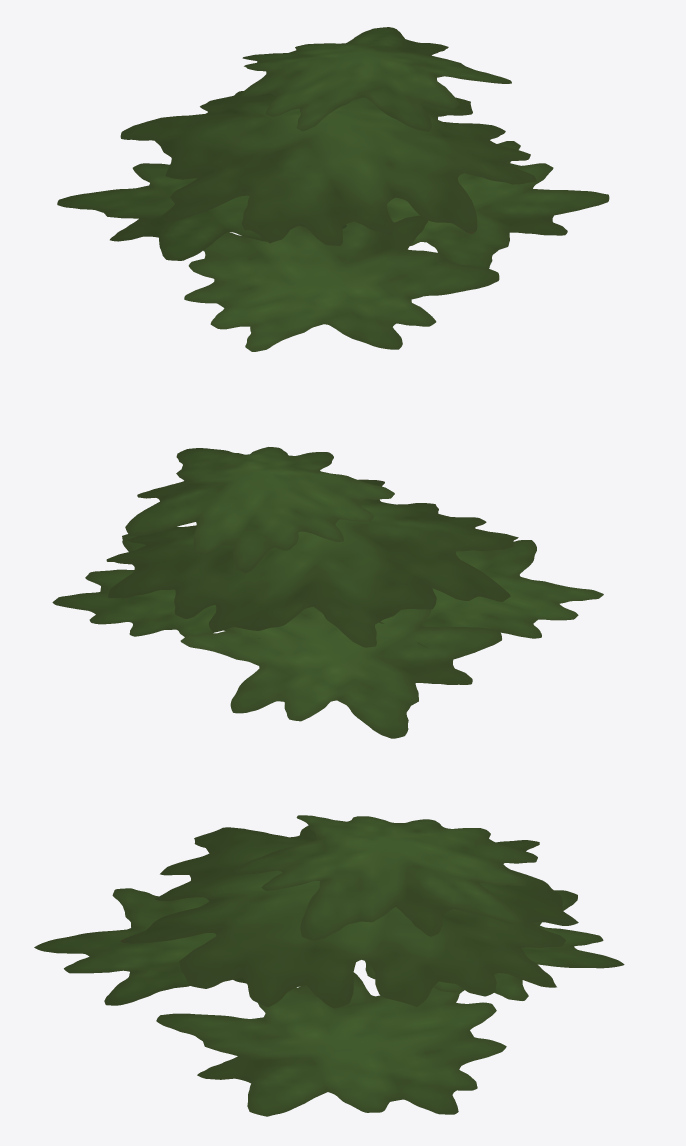
File: Bush_07.fbx
3 renders of one model, top to bottom at view 1: azimuth 30°, elevation 25°; view 2: azimuth 150°, elevation 25°; view 3: azimuth 270°, elevation 25°, orthographic. The views are drawn at different scales.
Visible parts, largest first — view 1: Bush_07; view 2: Bush_07; view 3: Bush_07.
Part boxes in pixels (bbox=[...]): Bush_07: bbox=[57, 27, 609, 351]; Bush_07: bbox=[52, 447, 603, 738]; Bush_07: bbox=[34, 815, 624, 1116].
Size of the model in its own units: 177 by 54.52 by 179.
1 material, 1 textured.
